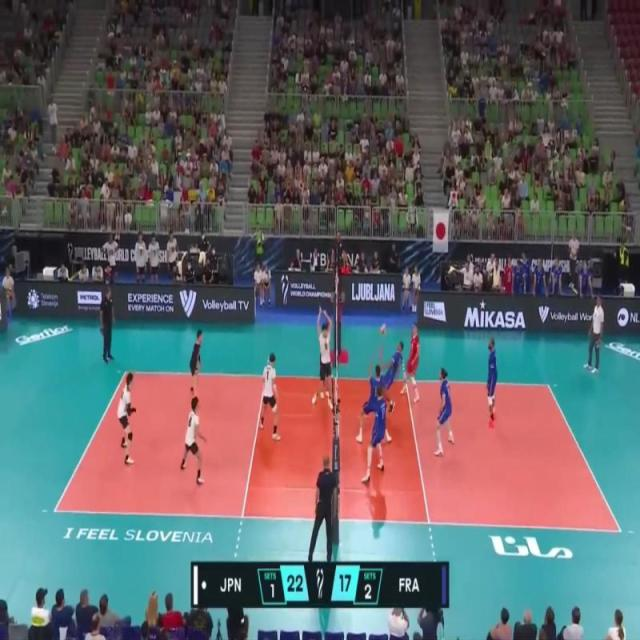volleyball: (380, 322, 388, 336)
